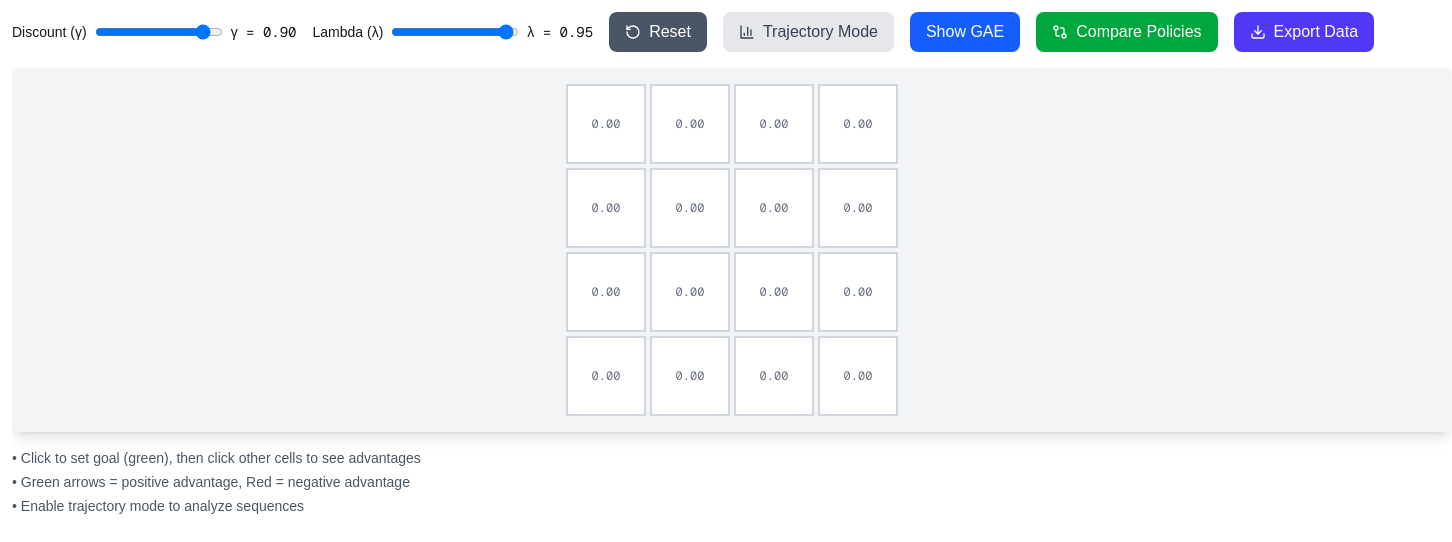
Test: AdvantageFunctionVisualizer Component › should display advantage values
// First set a goal
Click the element with test id "advantage-cell-3-3" at (858,376), box [818,336,898,416]
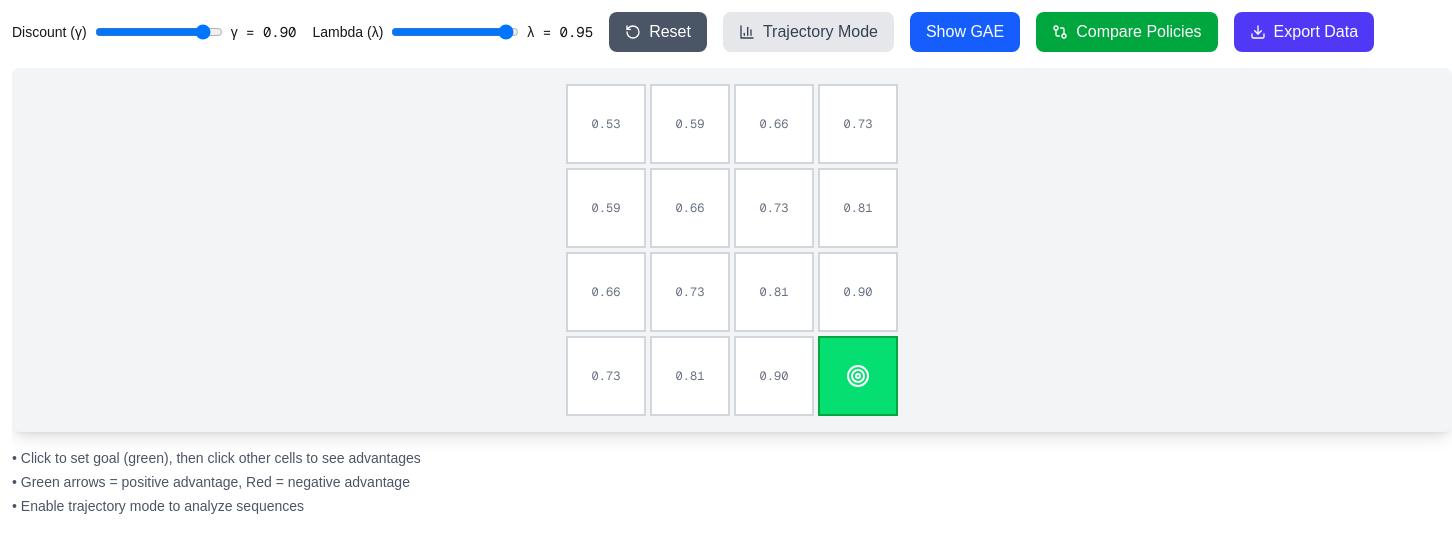
// Then select another cell
Click the element with test id "advantage-cell-1-1" at (690,208), box [650,168,730,248]
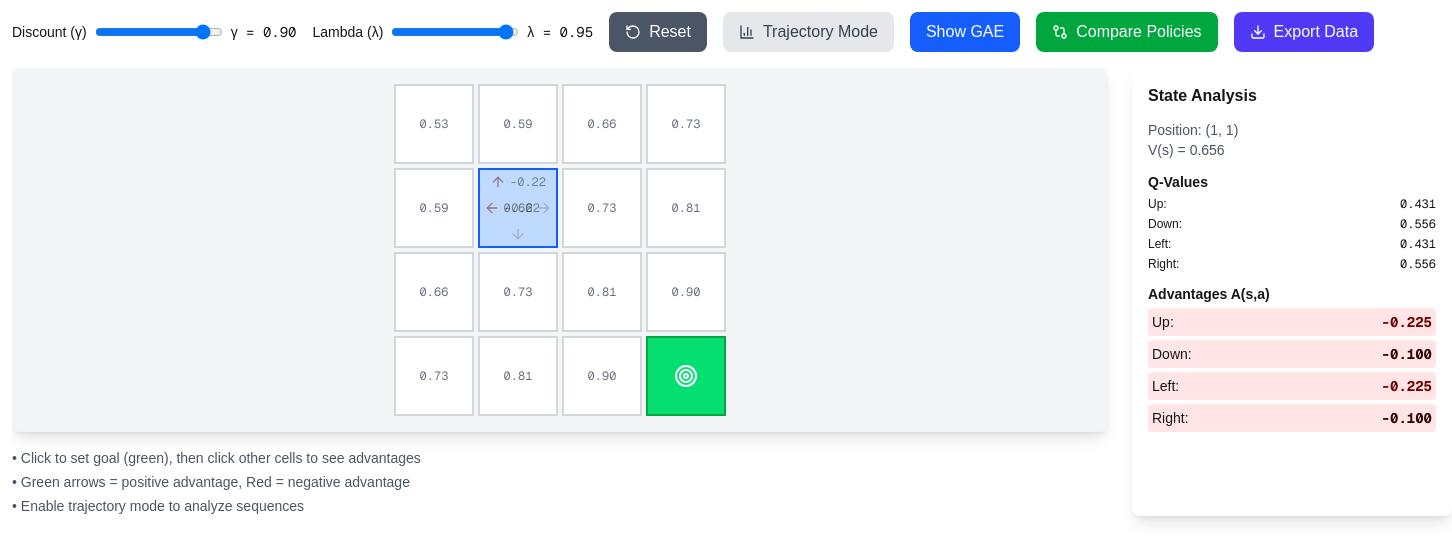
Expected: the element with test id "advantage-display" is shown, [1148,284,1436,432]
